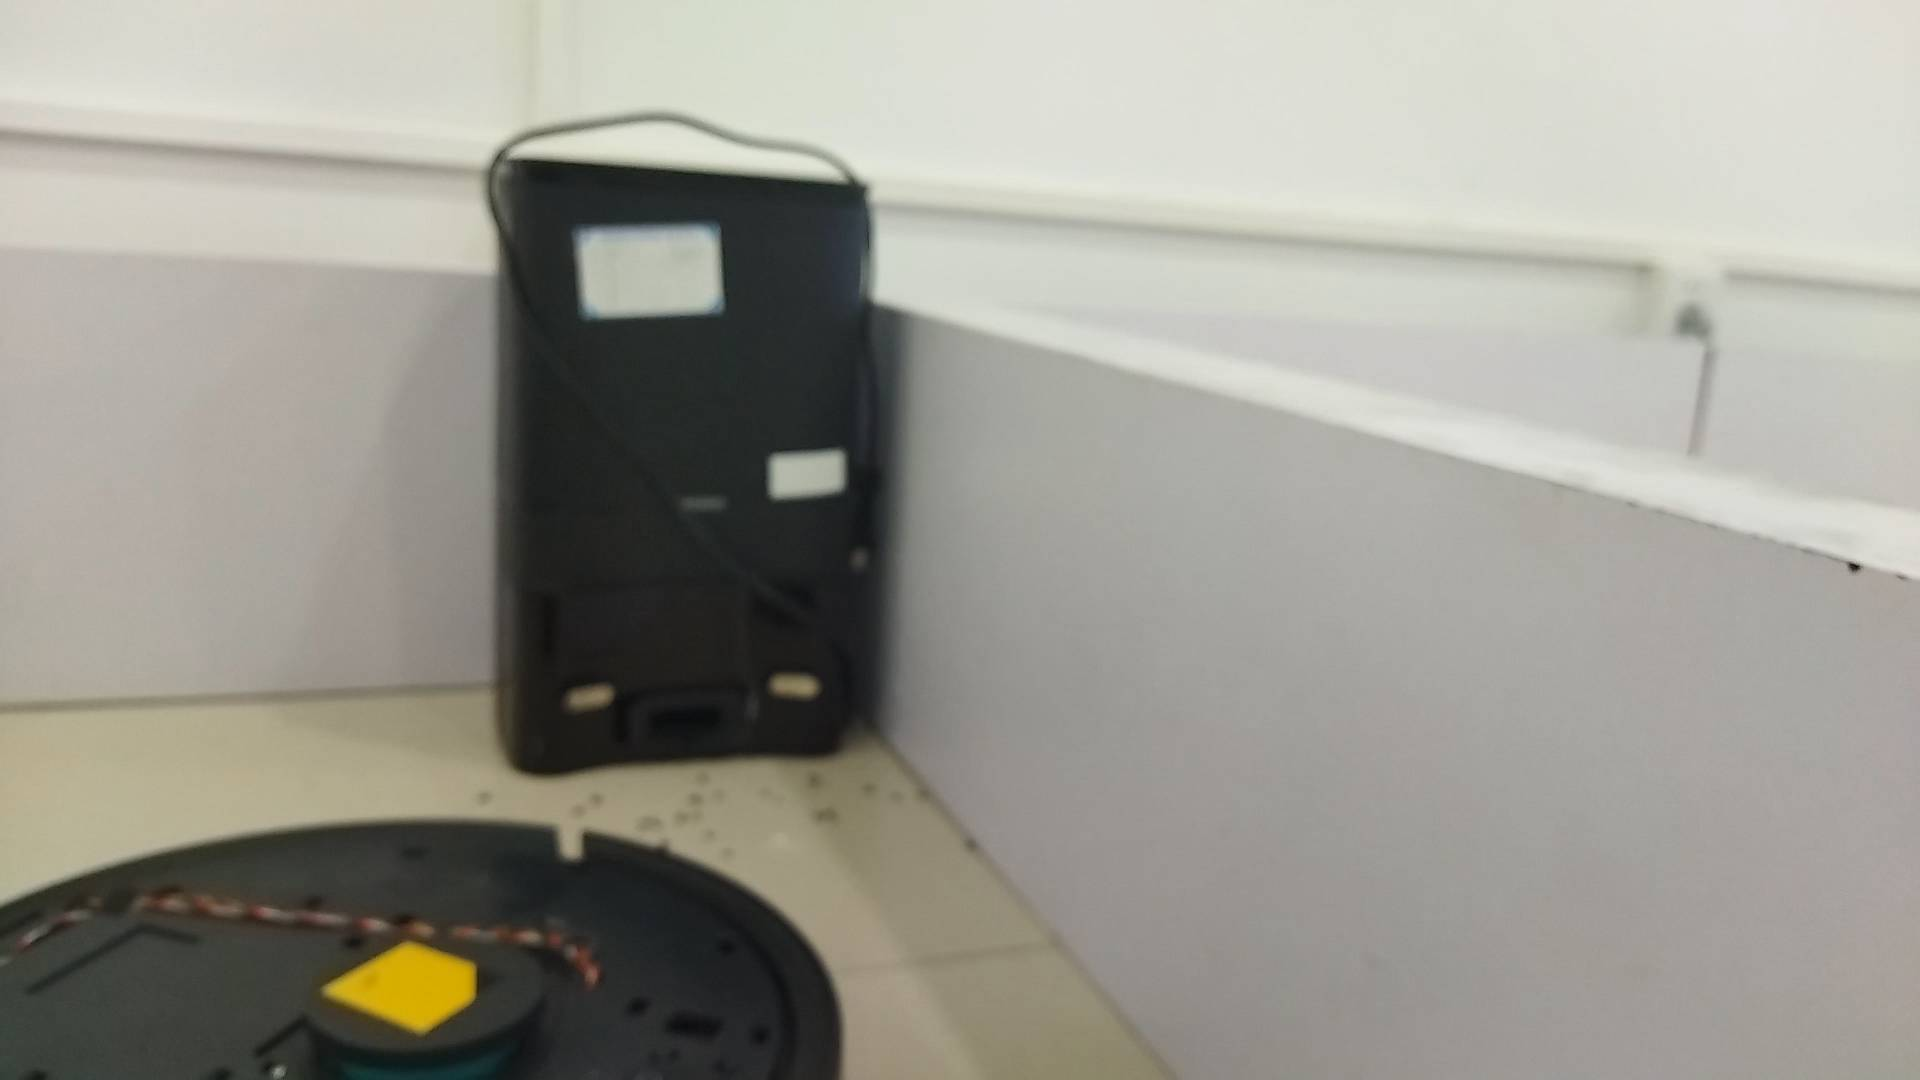dust collecting barrel: (496, 160, 876, 775)
